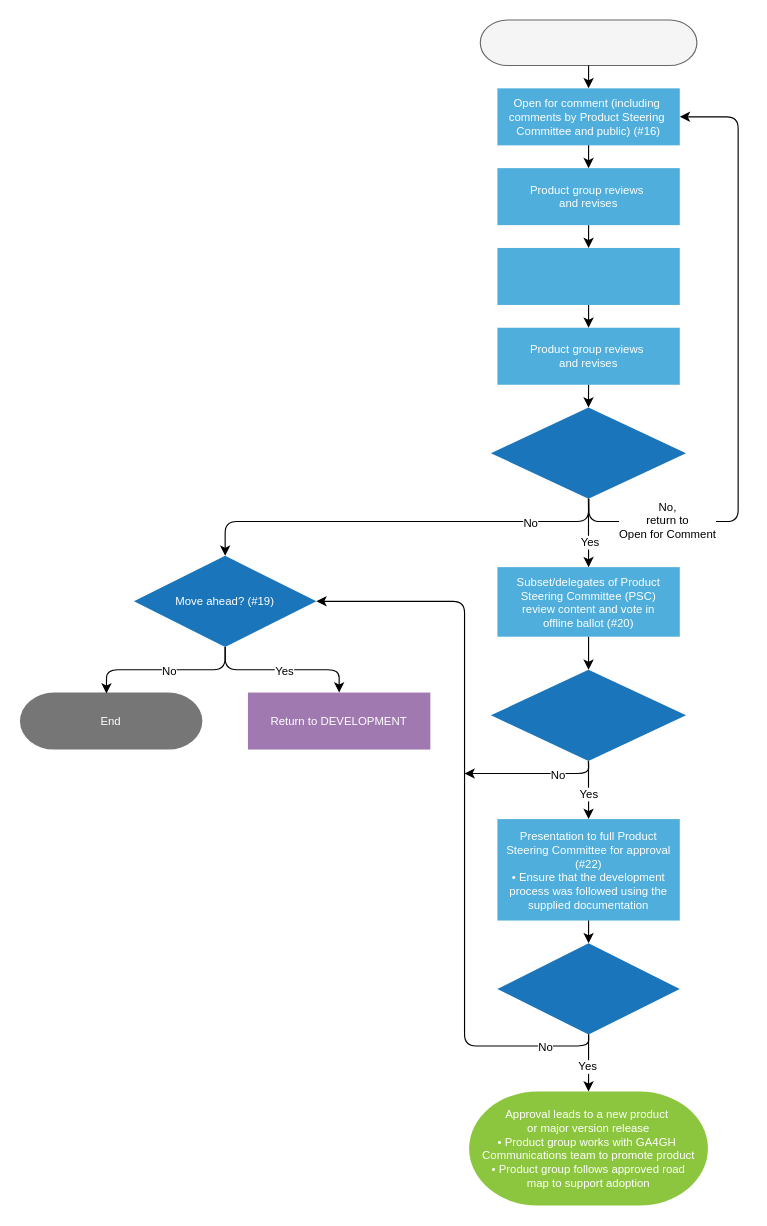
Image size: 767x1226. Some labels were removed from this diagram. Each missing label, with the centre of its shape:
Full PSC approves process? (#22): point 588,988
PRC, Regulatory & Ethics, and Security approve? (#18): point 587,452
Product Review Committee (PRC), Regulatory & Ethics, and Security review (#17): point 588,275
Start here: point 588,42
Subset/ delegates of PSC approve content? (#21): point 587,714
